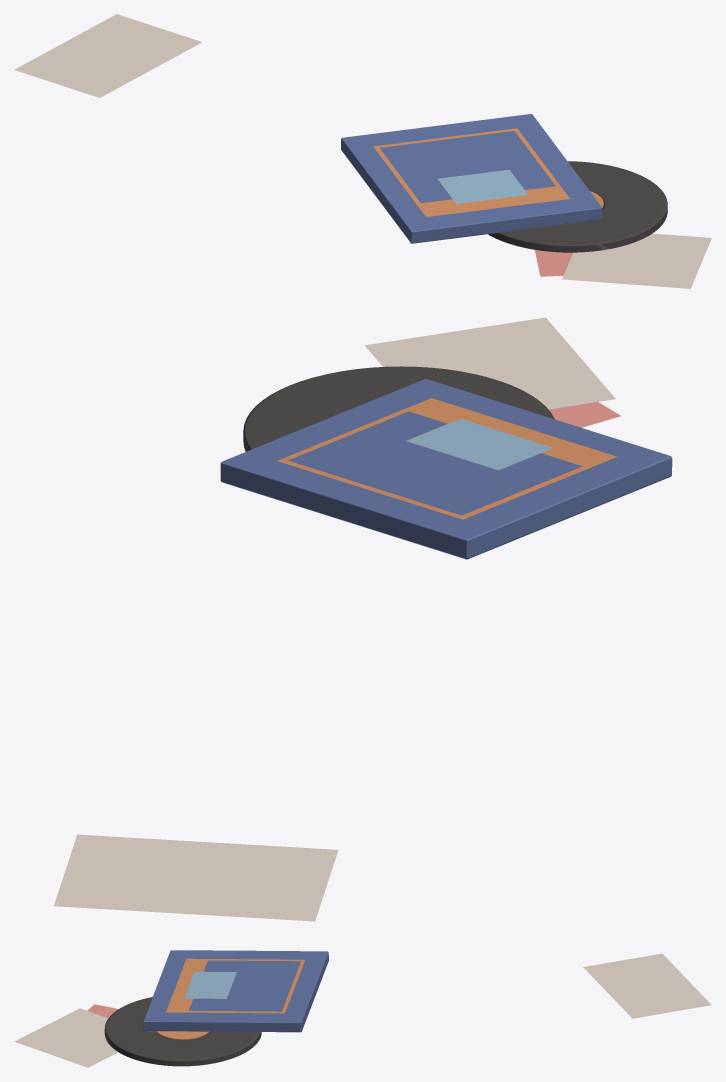
File: vinyl-transformed.glb
The picture shows the model from 3 angles, top to bottom: view 1: azimuth 30°, elevation 25°; view 2: azimuth 150°, elevation 25°; view 3: azimuth 270°, elevation 25°; orthographic projection. The views are drawn at different scales.
Visible parts, largest first — view 1: Cube.006, paper 3, Cylinder.006, Rectangle 2.003, paper.001, Rectangle.004, Rectangle 3.002, paper 2; view 2: Cube.006, paper 3, Rectangle 2.003, paper.001, Cylinder.006, Rectangle.004, Rectangle 3.002, paper 2; view 3: Cube.006, Cylinder.006, paper 3, Rectangle 2.003, paper.001, Rectangle.004, Rectangle 3.002, 红色.001, paper 2.
Boxes of the visible parts, x1,y1,x2,y2 form: Cube.006: (341, 114, 602, 243); paper 3: (14, 14, 201, 97); Cylinder.006: (488, 161, 667, 252); Rectangle 2.003: (380, 131, 555, 203); paper.001: (562, 233, 711, 288); Rectangle.004: (373, 128, 569, 216); Rectangle 3.002: (437, 169, 527, 203); paper 2: (535, 250, 572, 276); Cube.006: (220, 379, 672, 559); paper 3: (54, 834, 338, 921); Rectangle 2.003: (288, 411, 582, 515); paper.001: (365, 317, 615, 409); Cylinder.006: (243, 366, 554, 451); Rectangle.004: (277, 398, 617, 519); Rectangle 3.002: (406, 418, 552, 470); paper 2: (549, 402, 620, 427); Cube.006: (143, 950, 328, 1032); Cylinder.006: (104, 997, 261, 1066); paper 3: (583, 953, 711, 1018); Rectangle 2.003: (189, 960, 300, 1011); paper.001: (14, 1008, 118, 1067); Rectangle.004: (166, 958, 305, 1013); Rectangle 3.002: (184, 971, 236, 998); 红色.001: (156, 1031, 209, 1039); paper 2: (87, 1004, 118, 1018).
Bounding box in the file's own units: 1.24 × 0.2091 × 2.84.
